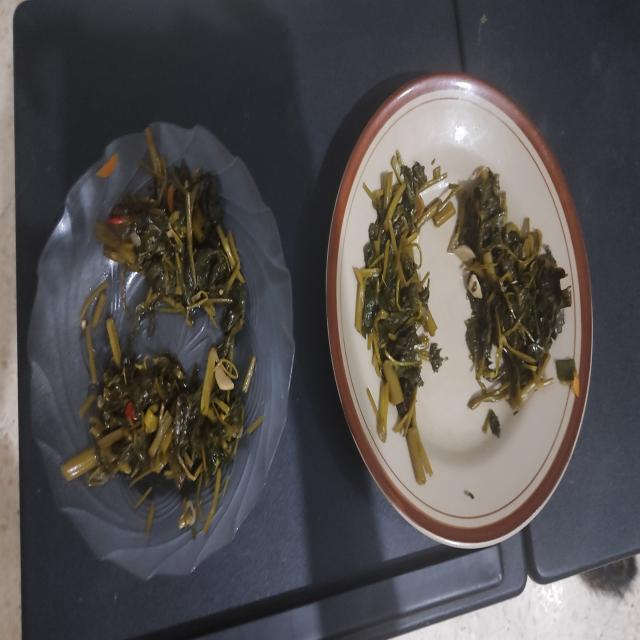tumis_kangkung: (62, 344, 264, 532), (354, 152, 442, 484), (456, 168, 571, 410), (95, 164, 245, 339)
